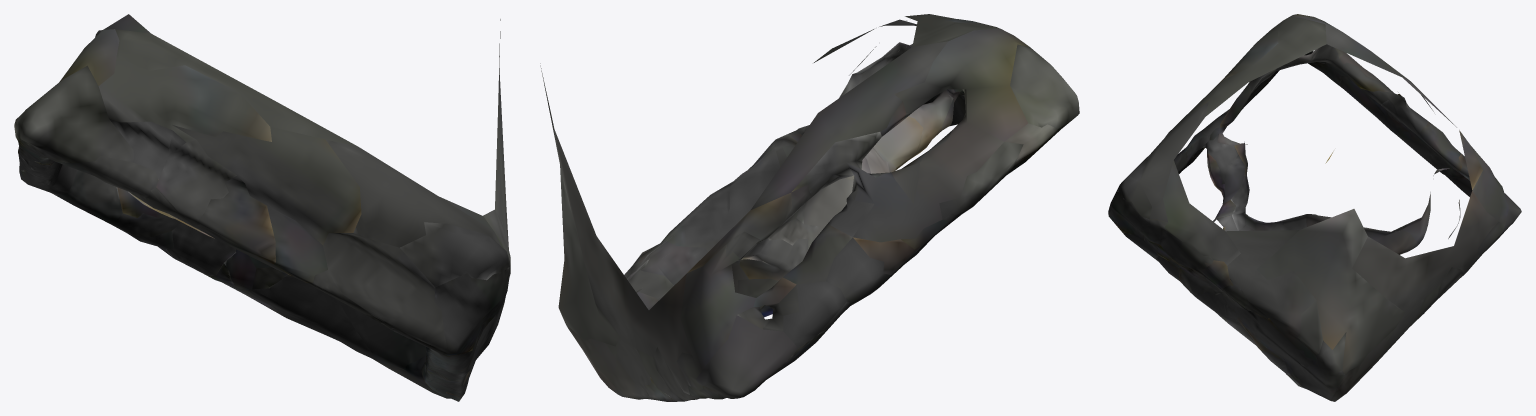
File: hall.glb
The picture shows the model from 3 angles, left to right: view 1: azimuth 30°, elevation 25°; view 2: azimuth 150°, elevation 25°; view 3: azimuth 270°, elevation 25°; orthographic projection. The views are drawn at different scales.
Bounding box in the file's own units: 0.7746 × 0.6421 × 0.8657.
Materials: 1 (1 with a texture image).
